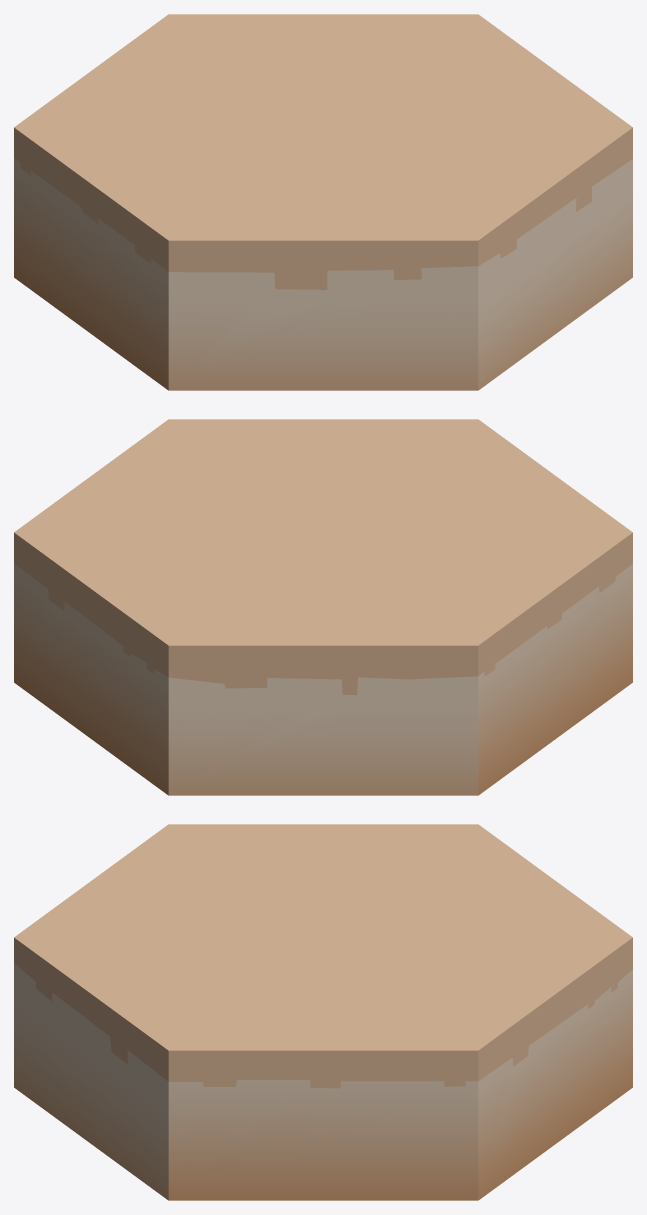
Rendered from Grade_3.fbx.
3 views of the same model, one above another, from view 1: azimuth 30°, elevation 25°; view 2: azimuth 150°, elevation 25°; view 3: azimuth 270°, elevation 25° (orthographic).
Visible parts, largest first — view 1: Grade_2.001; view 2: Grade_2.001; view 3: Grade_2.001.
Part boxes in pixels (x1,y1,x2,y2): Grade_2.001: [14, 14, 632, 390]; Grade_2.001: [14, 419, 632, 795]; Grade_2.001: [14, 824, 632, 1200].
Size of the model in its own units: 1.73 by 2 by 0.5351.
